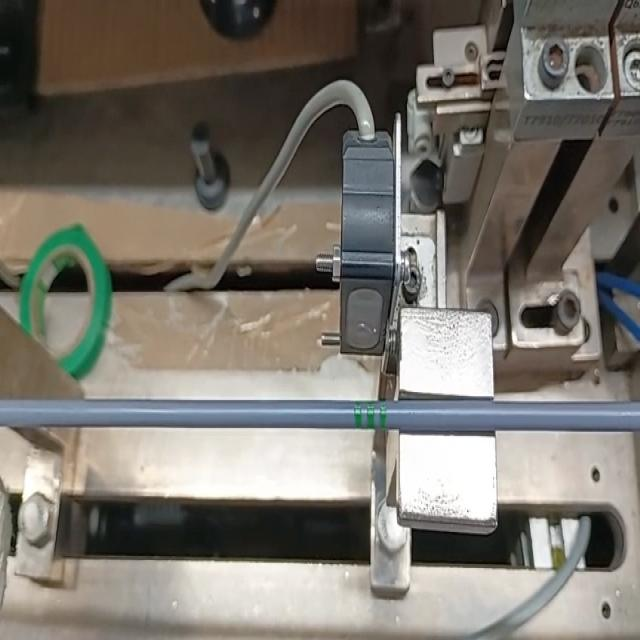green: (353, 397, 388, 434)
